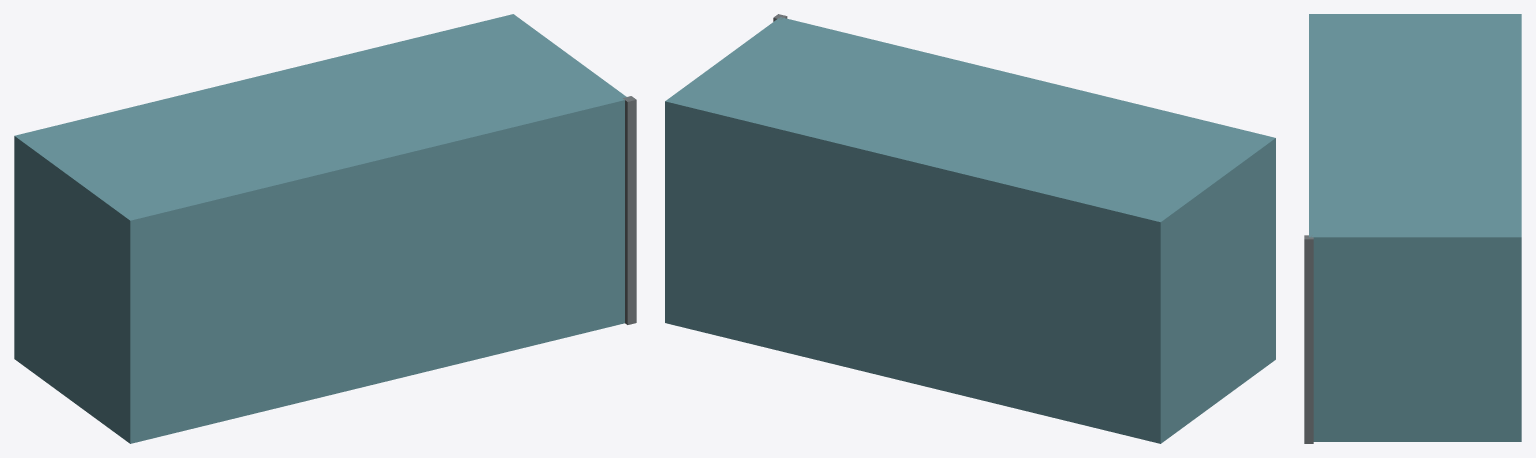
Rendered from container-20dv-lod1.glb.
3 renders of one model, left to right at view 1: azimuth 30°, elevation 25°; view 2: azimuth 150°, elevation 25°; view 3: azimuth 270°, elevation 25°, orthographic. The views are drawn at different scales.
Parts seen in each view (by area): view 1: body, corner; view 2: body; view 3: body, corner.
Boxes of the visible parts, bbox=[...] form: body: bbox=[14, 14, 627, 443]; corner: bbox=[622, 96, 636, 324]; body: bbox=[665, 17, 1275, 443]; body: bbox=[1309, 14, 1521, 441]; corner: bbox=[1304, 235, 1313, 443].
Size of the model in its own units: 6.12 by 2.59 by 2.5.
